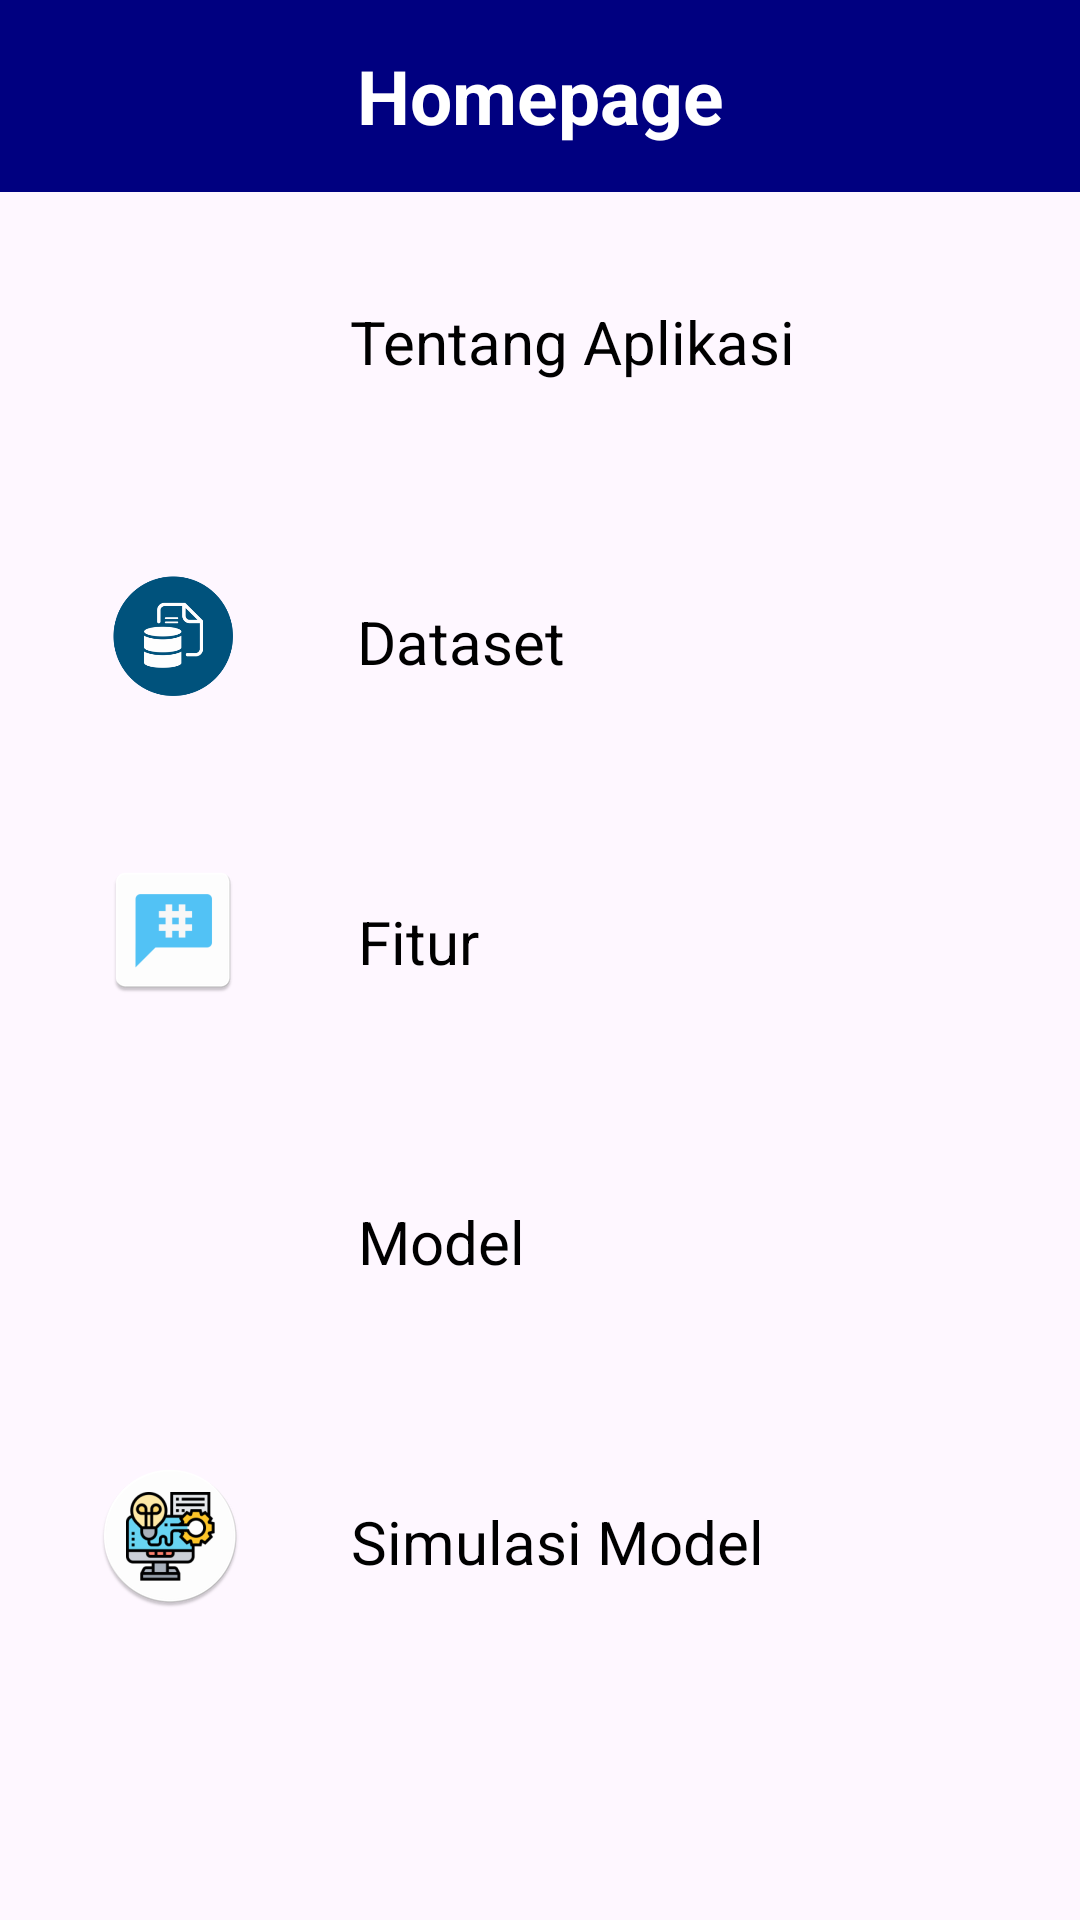

Point at icon controls on the screen. Image size 1080x1920, points as (x,y).
simulasi round: (171,1548)
